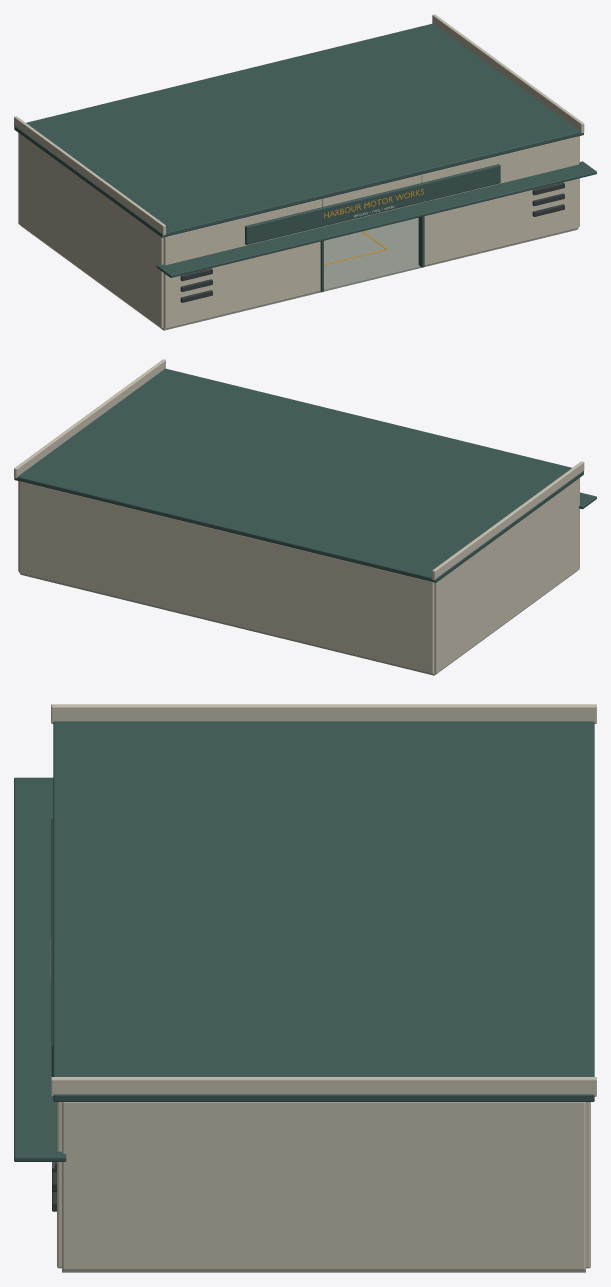
The model's file is interior_workshop.glb.
The picture shows the model from 3 angles, top to bottom: view 1: azimuth 30°, elevation 25°; view 2: azimuth 150°, elevation 25°; view 3: azimuth 270°, elevation 25°; orthographic projection. The views are drawn at different scales.
Parts seen in each view (by area): view 1: interior_workshop; view 2: interior_workshop; view 3: interior_workshop.
Boxes of the visible parts, x1=… form: interior_workshop: x1=14, y1=14, x2=596, y2=330; interior_workshop: x1=14, y1=359, x2=596, y2=675; interior_workshop: x1=14, y1=704, x2=596, y2=1272.
Bounding box in the file's own units: 20.6 × 4.98 × 13.35.
